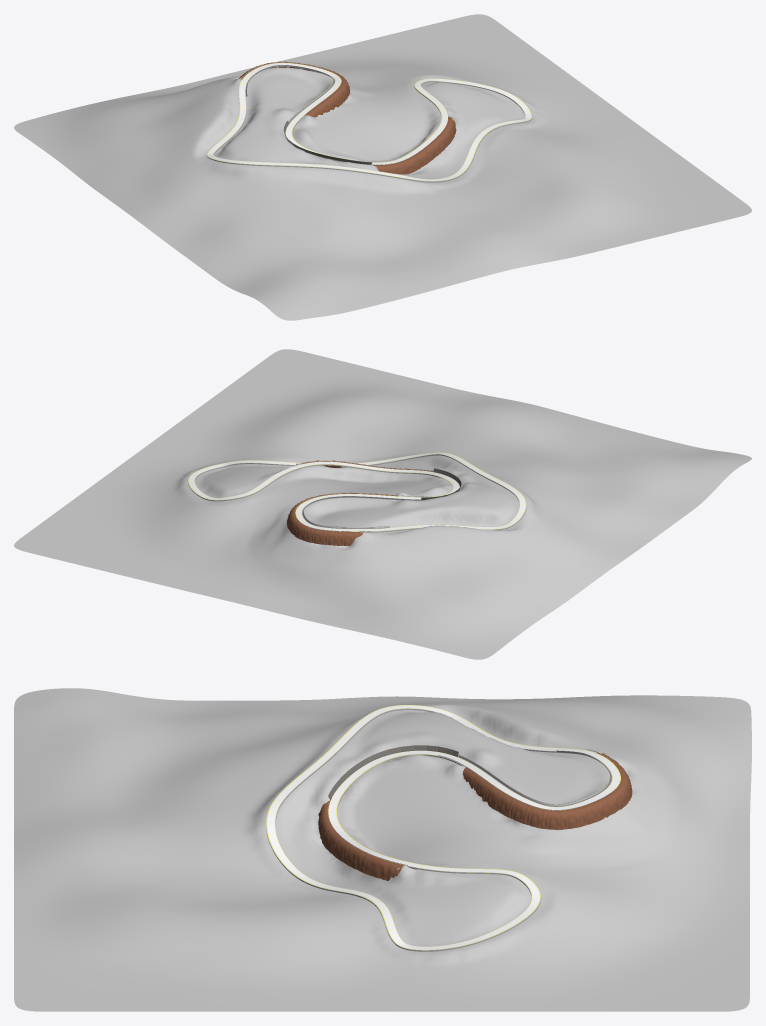
The model's file is Roads.fbx.
3 renders of one model, top to bottom at view 1: azimuth 30°, elevation 25°; view 2: azimuth 150°, elevation 25°; view 3: azimuth 270°, elevation 25°, orthographic. The views are drawn at different scales.
Parts seen in each view (by area): view 1: Terrain, Road Mask, Road, Cliff2, Cliff1; view 2: Terrain, Road Mask, Road, Cliff1; view 3: Terrain, Road Mask, Cliff1, Road, Cliff2, Concrete Wall1, Tree Wall1.
Part boxes in pixels (x1,y1,x2,y2): Terrain: (14,14,751,320); Road Mask: (207,63,531,181); Road: (206,66,532,182); Cliff2: (373,117,456,174); Cliff1: (239,61,350,117); Terrain: (14,349,751,659); Road Mask: (188,452,526,531); Road: (188,452,526,532); Cliff1: (287,492,398,545); Terrain: (14,688,751,1011); Road Mask: (266,705,620,950); Cliff1: (462,752,632,829); Road: (266,705,612,951); Cliff2: (318,798,404,880); Concrete Wall1: (328,745,458,799); Tree Wall1: (458,750,610,806).
Size of the model in its own units: 15049 by 1794 by 15043.
